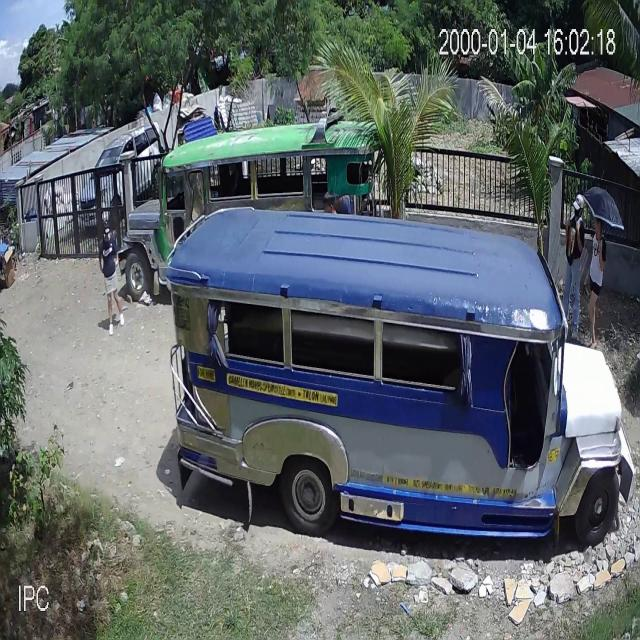standing: (559, 191, 587, 343), (586, 219, 609, 354)
walking: (98, 220, 125, 338), (319, 187, 342, 218)
